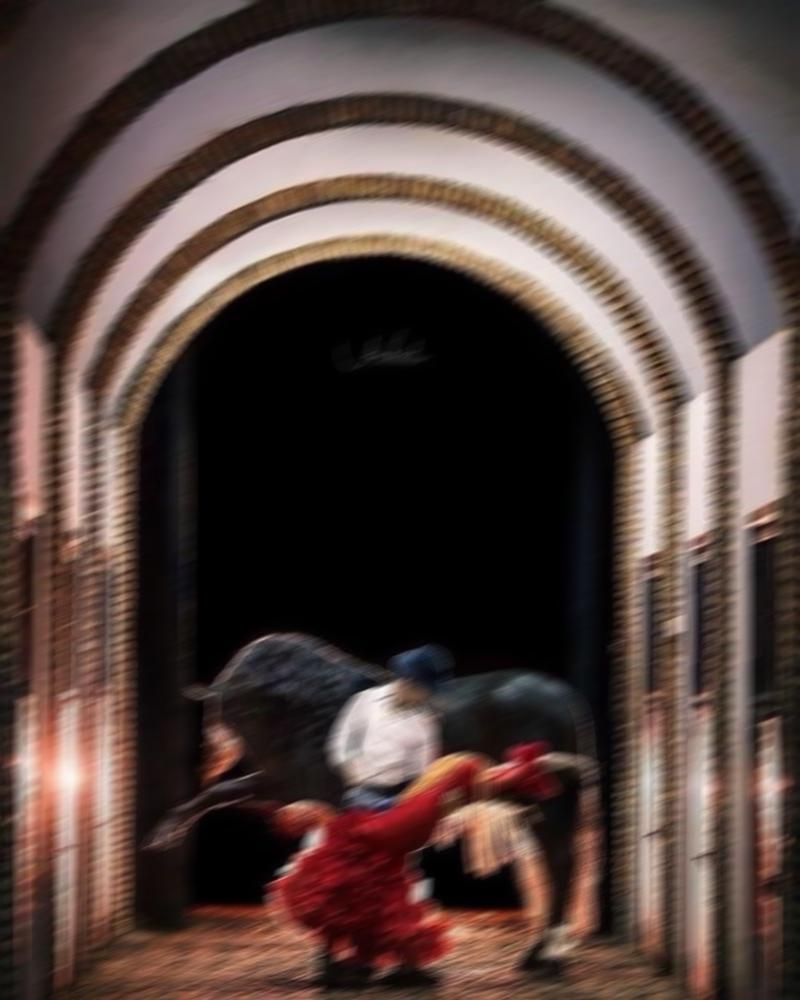horse: (140, 633, 598, 978)
